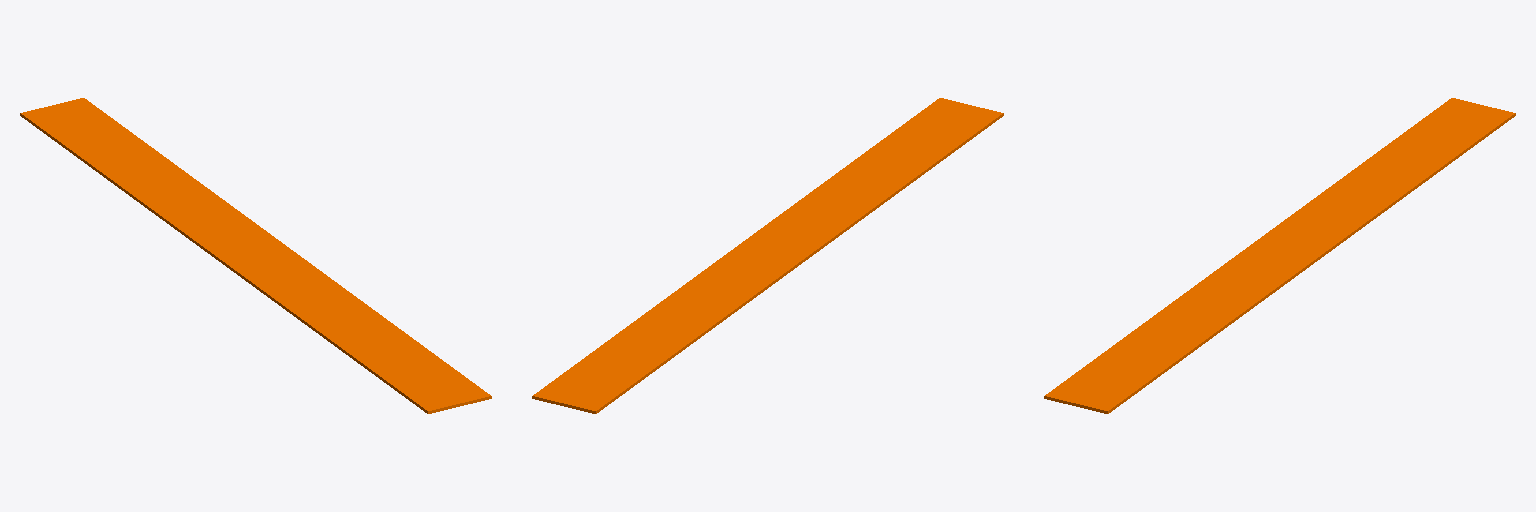
URDF robot description (ypaddle2D):
<robot name="ypaddle2D">
    
  <link name="base_link">
    <inertial>
      <origin rpy="0 0 0" xyz="0 0 0"/>
       <mass value="0"/>
       <inertia ixx="0" ixy="0" ixz="0" iyy="0" iyz="0" izz="0"/>
    </inertial>
  </link>

  <link name="x_link">
    <inertial>
      <origin rpy="0 0 0" xyz="0 0 0"/>
       <mass value="0.0001"/>
       <inertia ixx="0.0001" ixy="0" ixz="0" iyy="0.0001" iyz="0" izz="0.0001"/>
    </inertial>
  </link>


  <link name="y_link">
    <inertial>
      <origin rpy="0 0 0" xyz="0 0 0"/>
       <mass value="0.0001"/>
       <inertia ixx="0.0001" ixy="0" ixz="0" iyy="0.0001" iyz="0" izz="0.0001"/>
    </inertial>
  </link>


  <link name="theta_link">
    <inertial>
      <origin rpy="0 0 0" xyz="0 0 0"/>
       <mass value="1.0"/>
       <inertia ixx="0.0001" ixy="0" ixz="0" iyy="0.0001" iyz="0" izz="0.0001"/>
    </inertial>

    <visual>
      <origin rpy="0 0 0" xyz="0 0 0"/>
      <geometry>
        <box size="4.5 50 0.2" />      
      </geometry>
      <material name="white">
        <color rgba="1 0.5 0 1"/>
      </material>
    </visual>
    
    <collision>
      <origin rpy="0 0 0" xyz="0 0 0"/>
      <geometry>
        <box size="4.5 50 0.2" />
      </geometry>
    </collision>
  </link>

  <joint name = "x_prismatic" type = "prismatic">
    <origin xyz = "0.0 0.0 0.0" rpy = "0 0 0"/> 
    <parent link = "base_link"/>
    <child link= "x_link"/>
    <axis xyz = "1 0 0"/>
    <limit effort="1.0" lower="-10000" upper="10000" velocity="10000" />
    <dynamics damping = "0.0" friction="0.0" />
  </joint>

  <joint name = "y_prismatic" type = "prismatic">
    <origin xyz = "0.0 0.0 0.0" rpy = "0 0 0"/> 
    <parent link = "x_link" />
    <child link= "y_link"/>
    <axis xyz = "0 1 0" />
    <limit effort="1.0" lower="-10000" upper="10000" velocity="10000" />
    <dynamics damping = "0.0" friction="0.0" />
  </joint>

   <joint name = "theta_revolute" type = "revolute">
    <origin xyz = "0.0 0.0 0.0" rpy = "0 0 0"/> 
    <parent link = "y_link" />
    <child link= "theta_link"/>
    <axis xyz = "0 0 1" />
    <limit effort="1.0" lower="-10000" upper="10000" velocity="10000" />
    <dynamics damping = "0.0" friction="0.0" />
  </joint>

    
</robot>

--- Render facts (derived) ---
Views: 3 orthographic renders of the robot side by side, from view 1: azimuth 30°, elevation 25°; view 2: azimuth 150°, elevation 25°; view 3: azimuth 330°, elevation 25°.
Model ypaddle2D with 4 links and 3 joints (1 revolute, 2 prismatic), rooted at base_link, posed all joints at 0.
Links seen in each view (by area): view 1: theta_link; view 2: theta_link; view 3: theta_link.
Boxes of the visible links, box(x1,y1,x2,y2) form: theta_link: box(20, 98, 491, 413); theta_link: box(532, 98, 1003, 413); theta_link: box(1044, 98, 1515, 413).
Size in the robot's own frame: 4.5 by 50 by 0.2 metres.
Geometry: primitives only (box / cylinder / sphere), no mesh files.